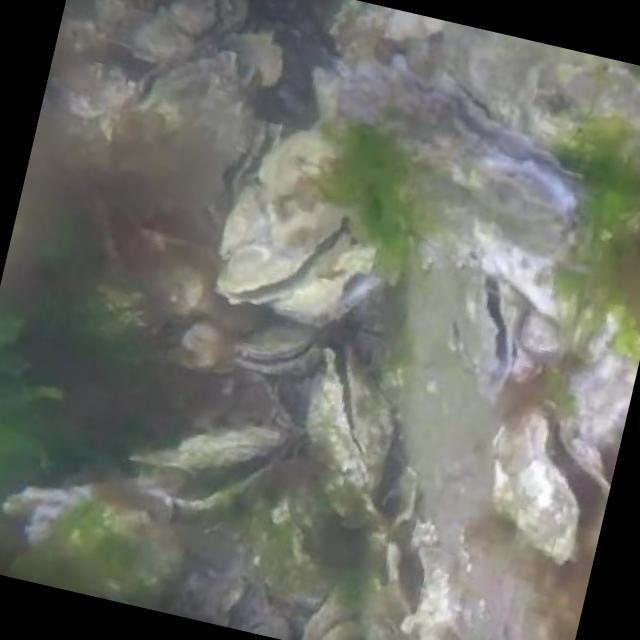Oyster- Indeterminate: (298, 46, 568, 250), (9, 479, 187, 604), (142, 45, 248, 155), (218, 500, 340, 589), (36, 65, 140, 133), (571, 363, 640, 439), (172, 310, 241, 385), (107, 16, 187, 76), (186, 571, 243, 634), (318, 603, 414, 640), (303, 585, 353, 637), (239, 603, 294, 640)
Oyster-Closed: (33, 288, 172, 354), (153, 0, 268, 47), (518, 315, 572, 367)
Oyster-Open: (188, 218, 383, 312), (499, 403, 618, 552), (116, 420, 308, 512), (303, 343, 405, 512), (371, 499, 470, 637), (455, 273, 523, 412), (228, 331, 327, 387), (213, 105, 272, 192)
